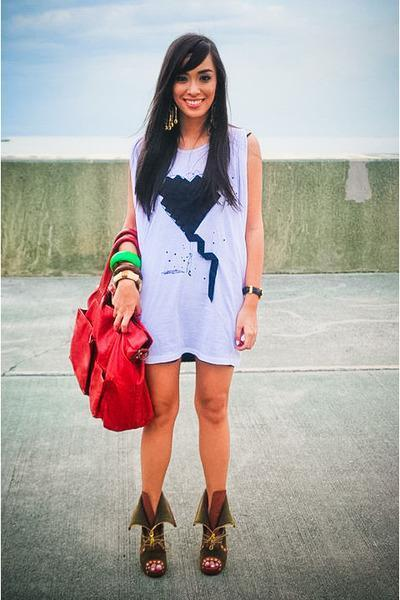bag: (69, 260, 155, 431)
dress: (136, 125, 258, 364)
shoe: (132, 484, 234, 578)
